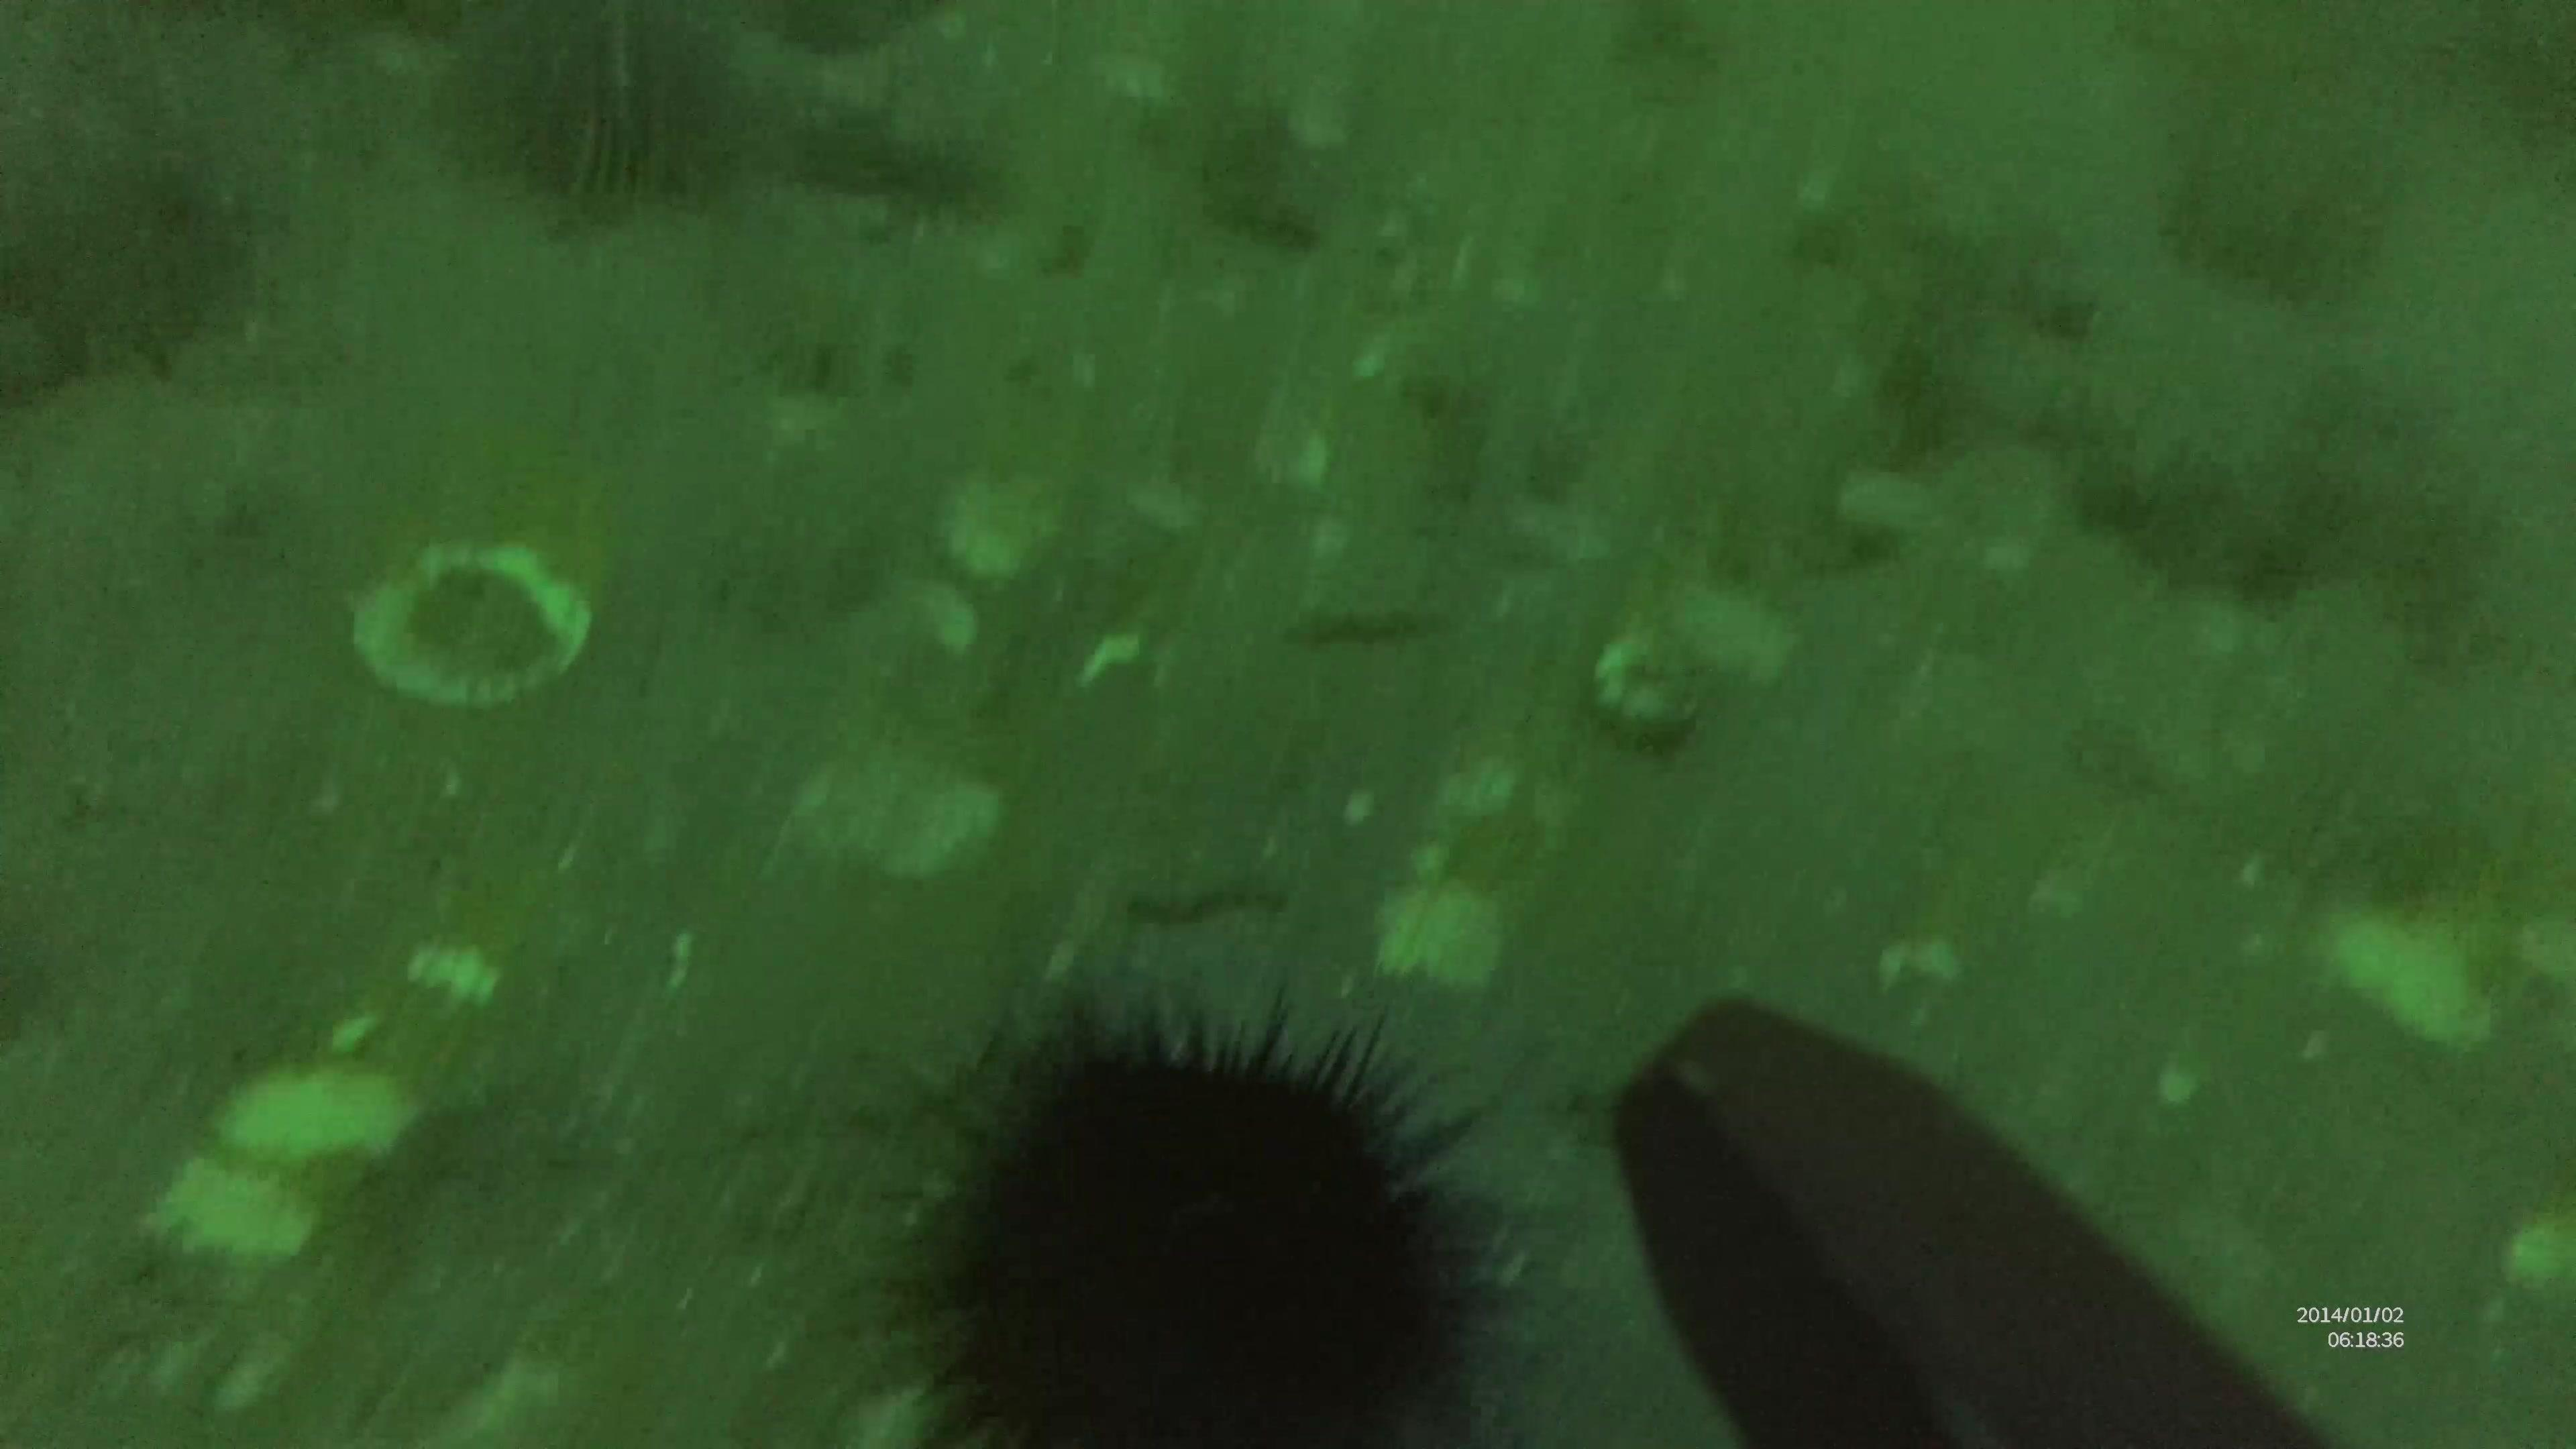echinus: (860, 996, 1545, 1449)
scallop: (350, 534, 605, 713), (786, 738, 1005, 886), (200, 1042, 410, 1166), (131, 1148, 318, 1267), (1364, 853, 1518, 987), (938, 460, 1065, 594), (1433, 741, 1573, 856), (396, 924, 515, 1001)
